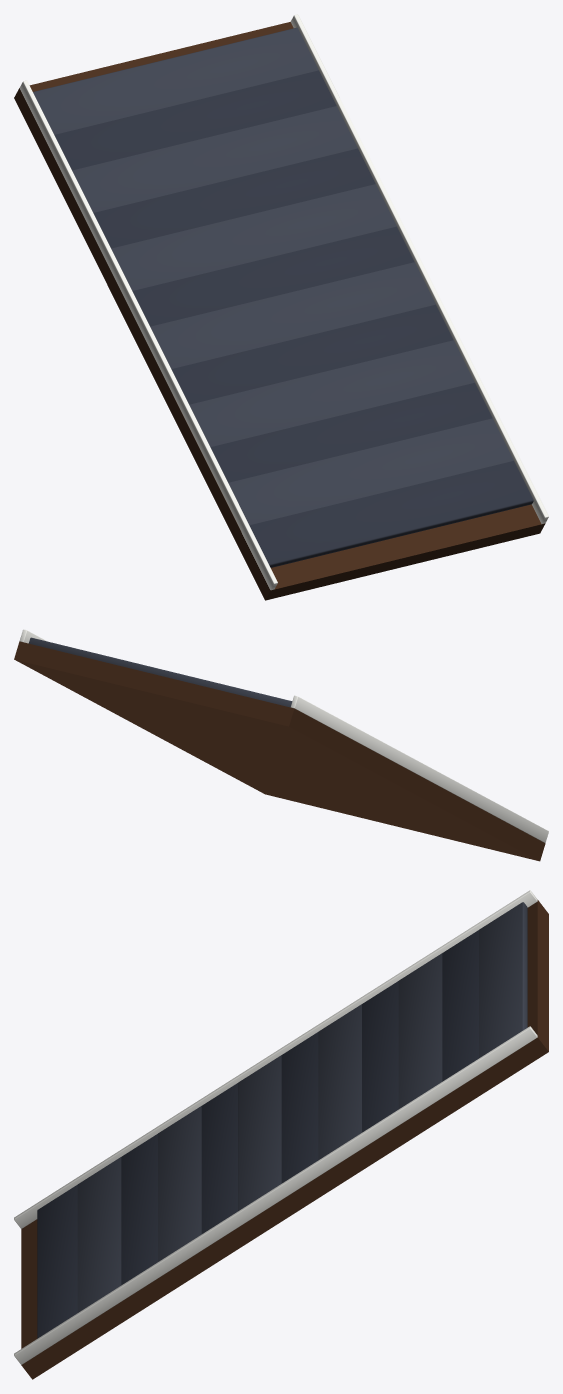
The model's file is Roof_Slope_Slate_2m.glb.
3 views of the same model, one above another, from view 1: azimuth 30°, elevation 25°; view 2: azimuth 150°, elevation 25°; view 3: azimuth 270°, elevation 25° (orthographic). The views are drawn at different scales.
Visible parts, largest first — view 1: Roof_Slope_Slate_2m; view 2: Roof_Slope_Slate_2m; view 3: Roof_Slope_Slate_2m.
Part boxes in pixels (x1,y1,x2,y2): Roof_Slope_Slate_2m: (14,14,548,600); Roof_Slope_Slate_2m: (14,629,548,861); Roof_Slope_Slate_2m: (14,890,548,1379).
Bounding box in the file's own units: 2 × 2.38 × 3.28.
